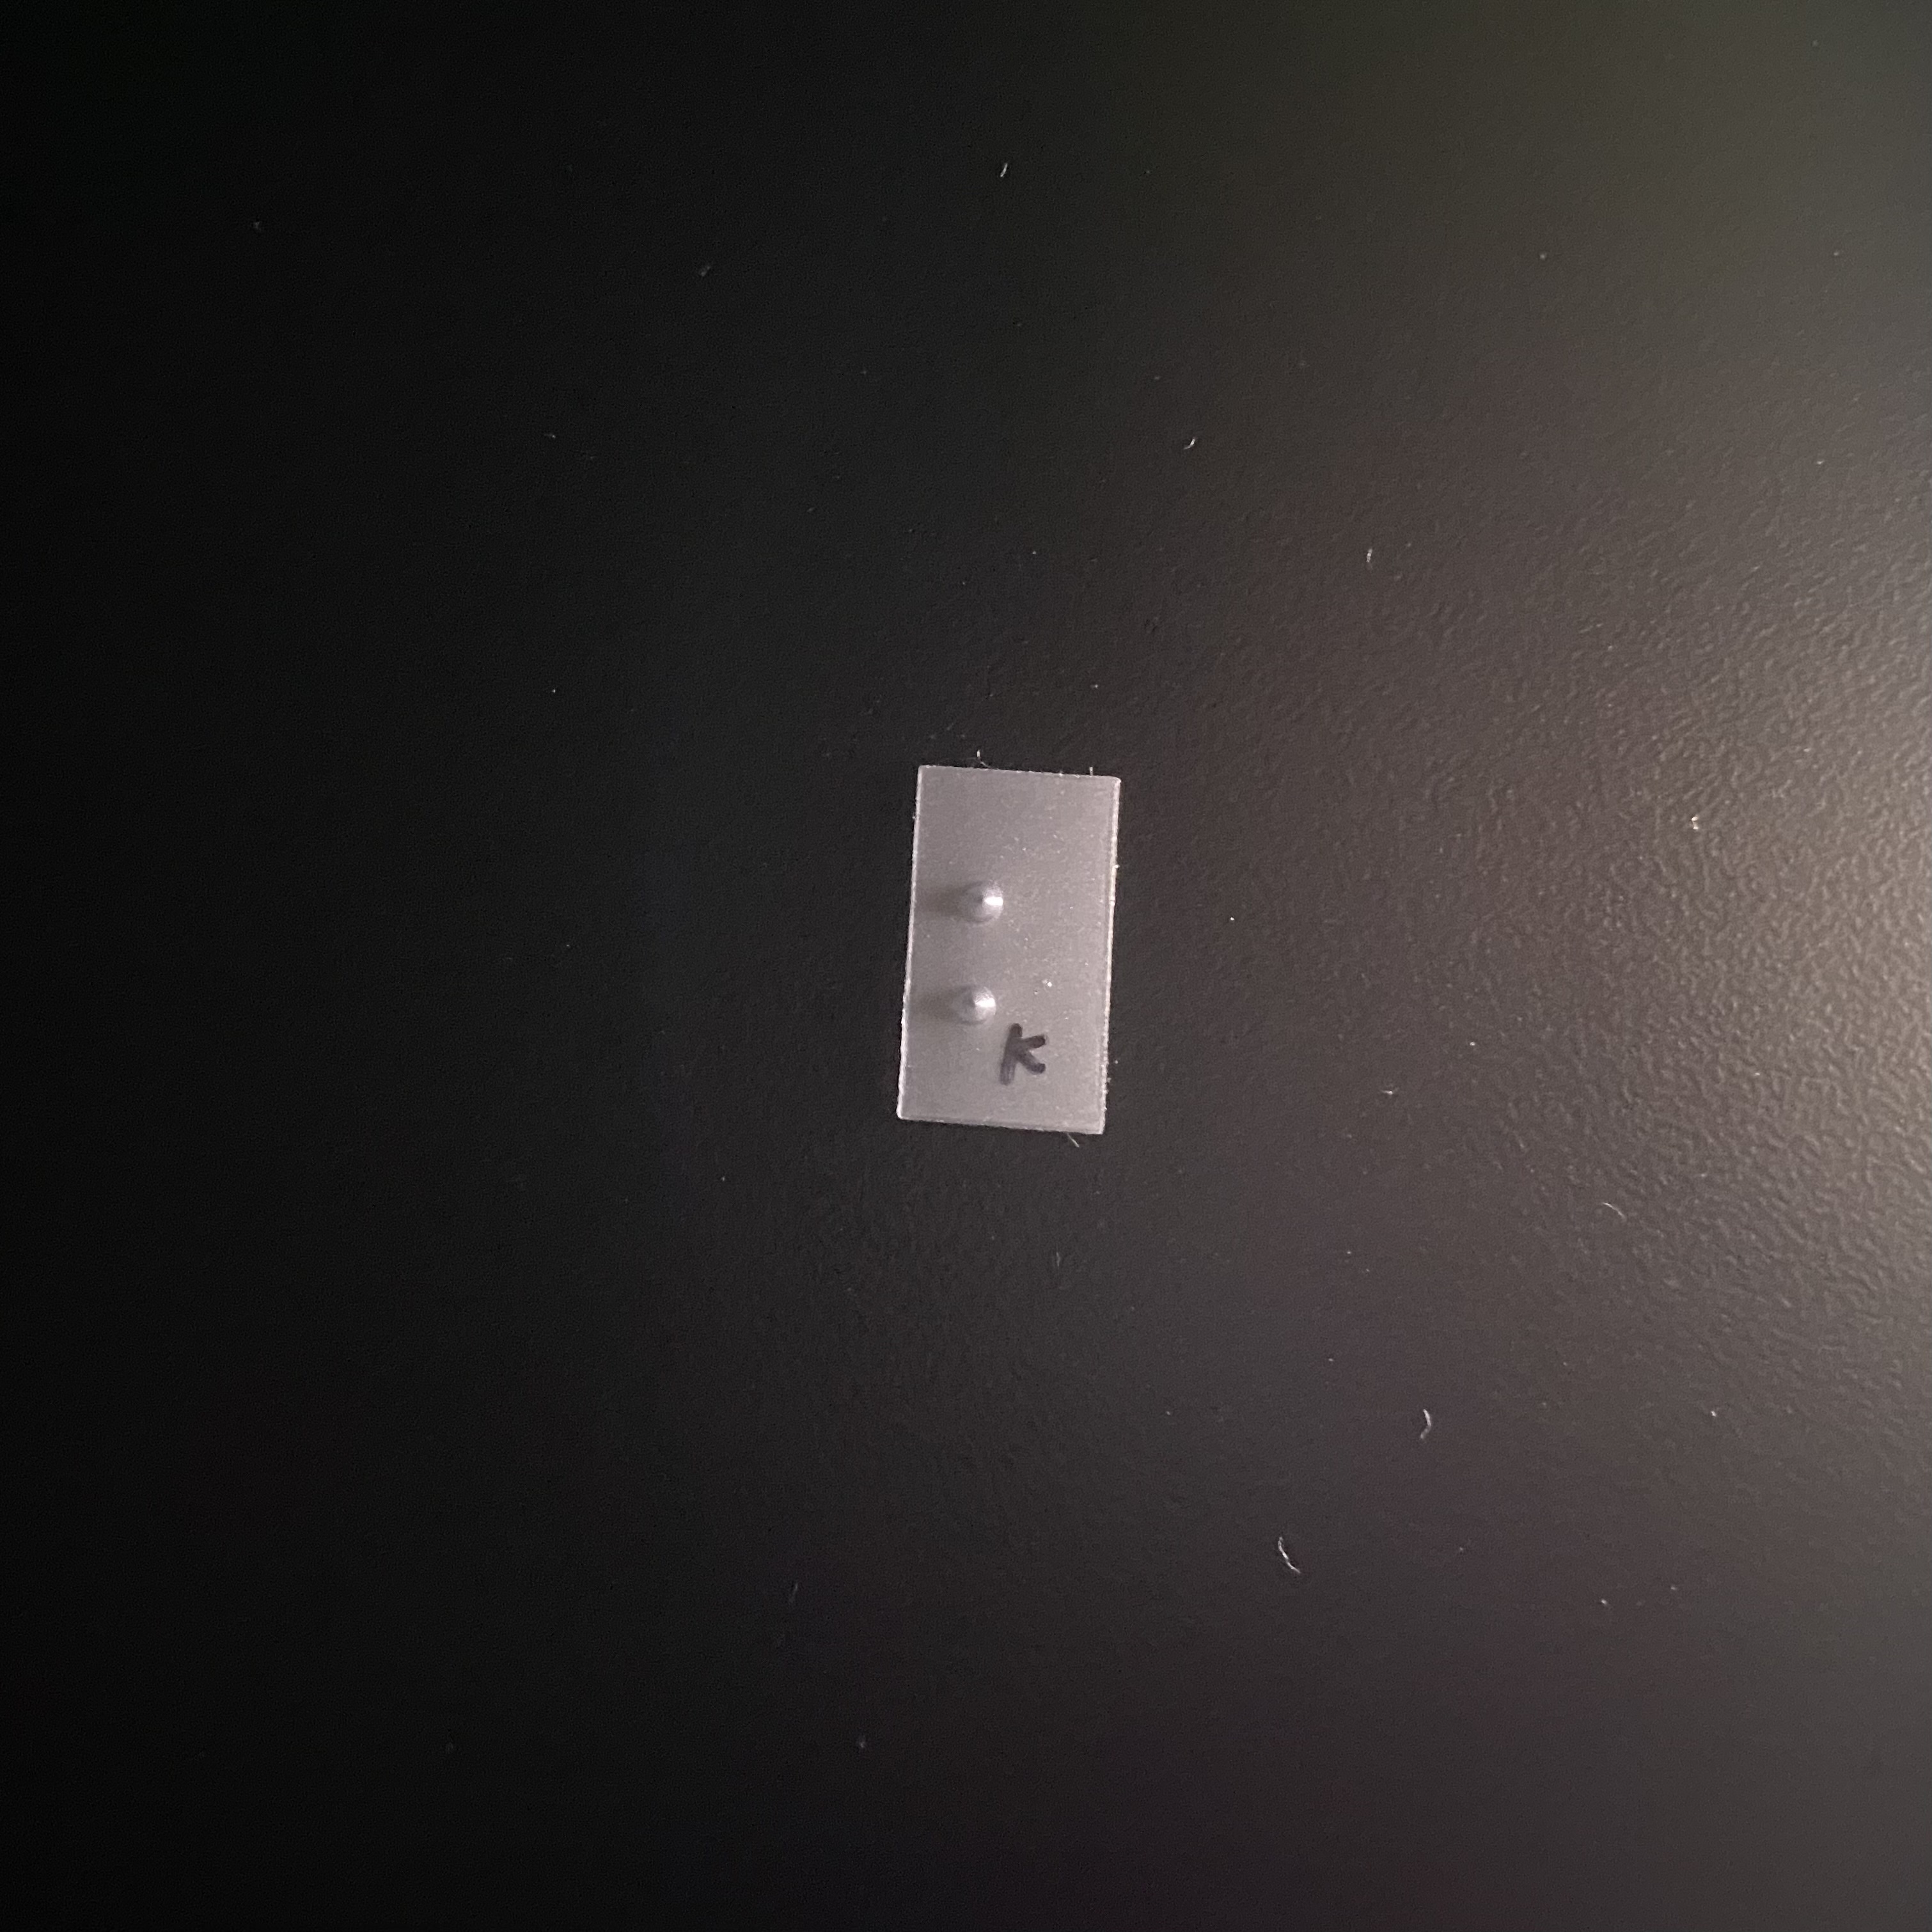k: (941, 865, 1056, 1033)
